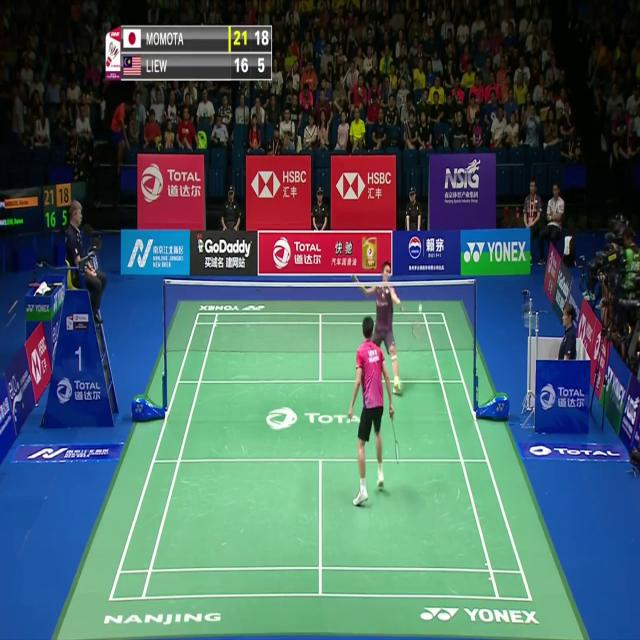Shuttlecock: (417, 302, 423, 313)
